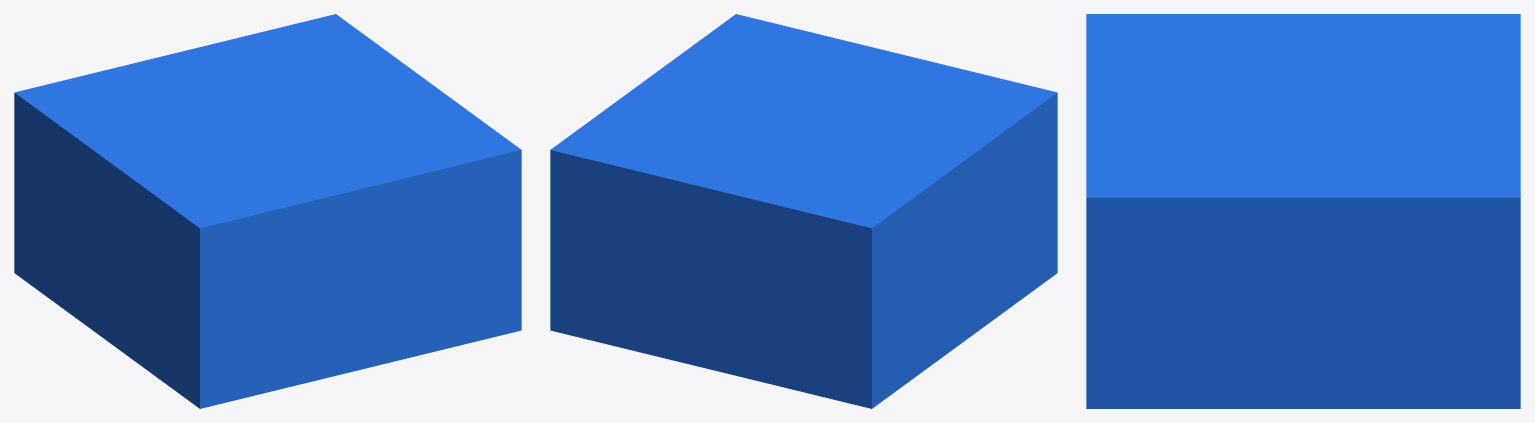
The picture shows the model from 3 angles, left to right: view 1: azimuth 30°, elevation 25°; view 2: azimuth 150°, elevation 25°; view 3: azimuth 270°, elevation 25°; orthographic projection. The views are drawn at different scales.
Parts seen in each view (by area): view 1: X5_sh_12, X5_sh_15, X5_sh_3, X5_sh_13, X5_sh_8, X5_sh_18, X5_sh_5, X5_sh_1, X5_sh_11, X5_sh_17, X5_sh_16, X5_sh_14 (+7 smaller); view 2: X5_sh_19, X5_sh_1, X5_sh_14, X5_sh_12, X5_sh_11, X5_sh_17, X5_sh_18, X5_sh_3, X5_sh_10, X5_sh_4, X5_sh_2, X5_sh_20 (+4 smaller); view 3: X5_sh_19, X5_sh_17, X5_sh_16, X5_sh_9, X5_sh_11, X5_sh_1, X5_sh_12, X5_sh_5, X5_sh_2, X5_sh_18, X5_sh_20, X5_sh_8 (+1 smaller).
Part boxes in pixels (x1=…): X5_sh_12: x1=39, y1=108, x2=203, y2=235; X5_sh_15: x1=325, y1=173, x2=456, y2=366; X5_sh_3: x1=111, y1=299, x2=285, y2=408; X5_sh_13: x1=272, y1=160, x2=405, y2=347; X5_sh_8: x1=227, y1=172, x2=332, y2=316; X5_sh_18: x1=136, y1=167, x2=237, y2=307; X5_sh_5: x1=393, y1=138, x2=521, y2=280; X5_sh_1: x1=14, y1=49, x2=212, y2=179; X5_sh_11: x1=293, y1=75, x2=469, y2=168; X5_sh_17: x1=199, y1=52, x2=419, y2=115; X5_sh_16: x1=425, y1=208, x2=521, y2=353; X5_sh_14: x1=14, y1=177, x2=83, y2=323; X5_sh_19: x1=550, y1=111, x2=710, y2=352; X5_sh_1: x1=689, y1=155, x2=897, y2=315; X5_sh_14: x1=640, y1=276, x2=940, y2=408; X5_sh_12: x1=818, y1=122, x2=994, y2=283; X5_sh_11: x1=634, y1=50, x2=846, y2=114; X5_sh_17: x1=603, y1=88, x2=803, y2=170; X5_sh_18: x1=924, y1=86, x2=1057, y2=173; X5_sh_3: x1=968, y1=171, x2=1057, y2=337; X5_sh_10: x1=910, y1=216, x2=978, y2=357; X5_sh_4: x1=971, y1=165, x2=1050, y2=320; X5_sh_2: x1=781, y1=110, x2=929, y2=157; X5_sh_20: x1=792, y1=75, x2=925, y2=115; X5_sh_19: x1=1398, y1=115, x2=1520, y2=408; X5_sh_17: x1=1302, y1=86, x2=1475, y2=408; X5_sh_16: x1=1086, y1=265, x2=1373, y2=408; X5_sh_9: x1=1123, y1=139, x2=1354, y2=382; X5_sh_11: x1=1118, y1=114, x2=1324, y2=259; X5_sh_1: x1=1382, y1=14, x2=1520, y2=116; X5_sh_12: x1=1231, y1=14, x2=1459, y2=78; X5_sh_5: x1=1086, y1=131, x2=1194, y2=297; X5_sh_2: x1=1220, y1=52, x2=1384, y2=119; X5_sh_18: x1=1086, y1=14, x2=1234, y2=62; X5_sh_20: x1=1166, y1=57, x2=1284, y2=117; X5_sh_8: x1=1086, y1=29, x2=1196, y2=89.
Bounding box in the file's own units: 200 × 107 × 200.
